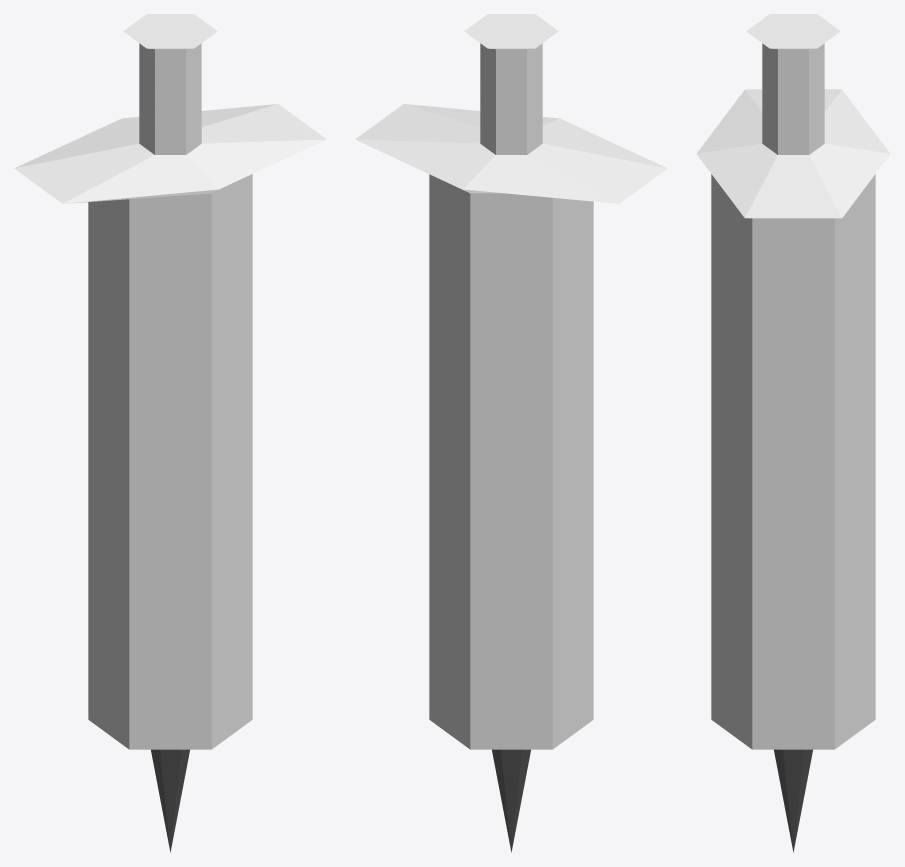
File: Syringe.fbx
3 renders of one model, left to right at view 1: azimuth 30°, elevation 25°; view 2: azimuth 150°, elevation 25°; view 3: azimuth 270°, elevation 25°, orthographic.
Visible parts, largest first — view 1: Syringe; view 2: Syringe; view 3: Syringe.
Boxes of the visible parts, x1=… form: Syringe: x1=14, y1=14, x2=326, y2=852; Syringe: x1=355, y1=14, x2=667, y2=852; Syringe: x1=696, y1=14, x2=890, y2=852.
Bounding box in the file's own units: 239 × 709 × 152.
Materials: 1 (1 with a texture image).
